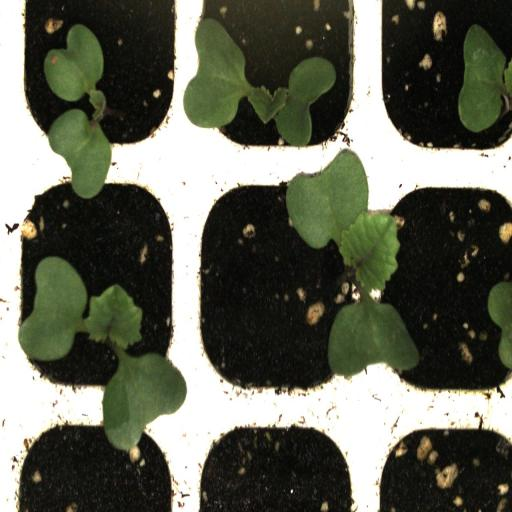Folha: (44, 24, 112, 199), (487, 281, 512, 369)
Germinacao: (190, 162, 377, 400), (12, 164, 186, 400), (9, 0, 192, 162), (191, 0, 365, 163)
